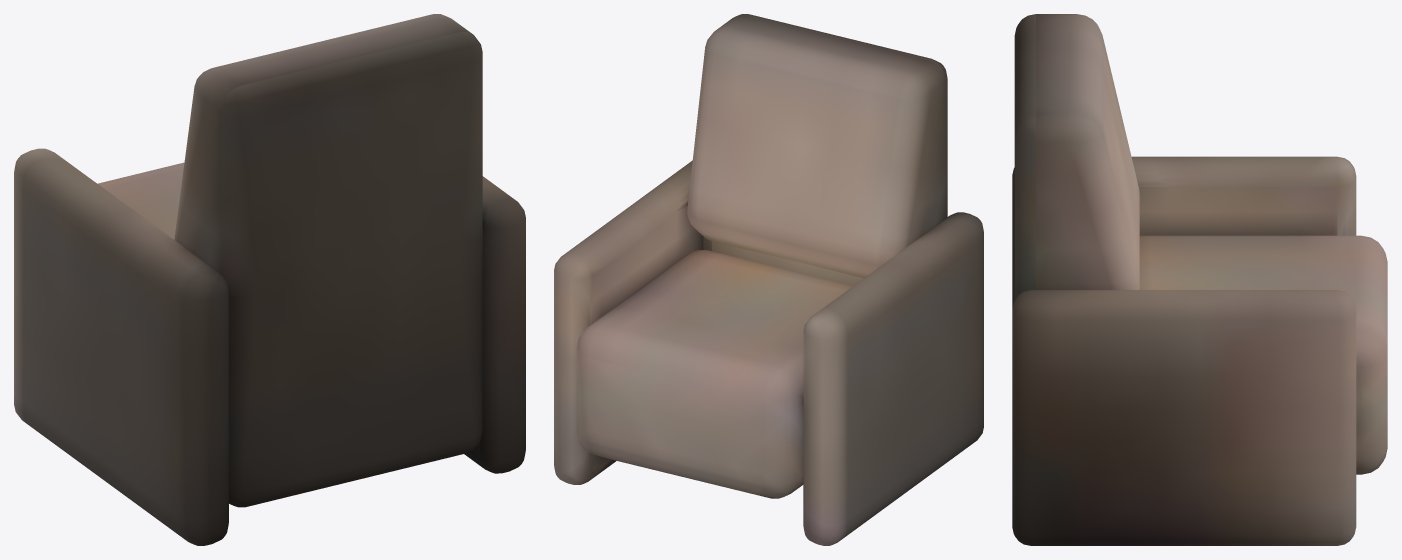
Rendered from poltrona_v2.glb.
3 views of the same model, side by side, from view 1: azimuth 30°, elevation 25°; view 2: azimuth 150°, elevation 25°; view 3: azimuth 270°, elevation 25° (orthographic). The views are drawn at different scales.
Parts seen in each view (by area): view 1: seat_seat_0.002; view 2: seat_seat_0.002; view 3: seat_seat_0.002.
Boxes of the visible parts, x1,y1,x2,y2 form: seat_seat_0.002: (14, 14, 525, 545); seat_seat_0.002: (554, 14, 983, 545); seat_seat_0.002: (1012, 14, 1387, 545).
Bounding box in the file's own units: 0.6266 × 0.7859 × 0.6509.
1 material, 1 textured.
